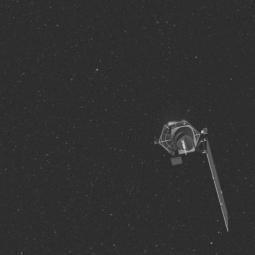earth_observation_sat_1: (146, 111, 219, 174)
